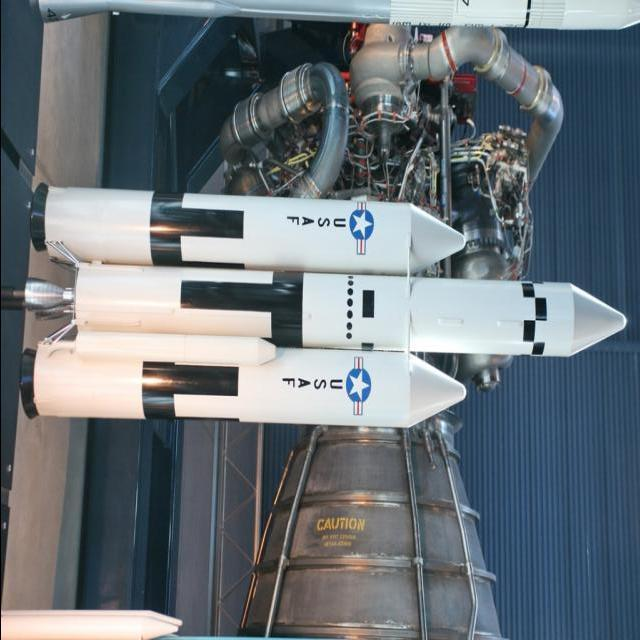missile: (66, 259, 638, 352), (11, 175, 477, 272), (16, 337, 474, 428), (0, 607, 189, 639)
